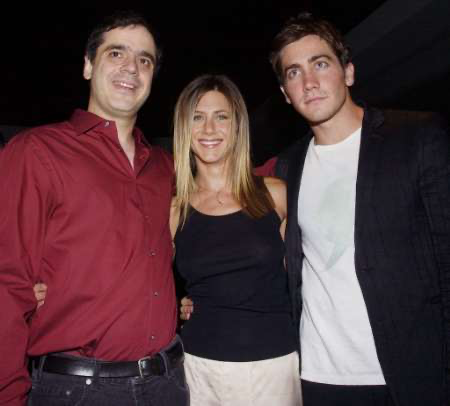Face: (92, 32, 157, 115), (280, 52, 349, 123), (187, 96, 237, 164)
